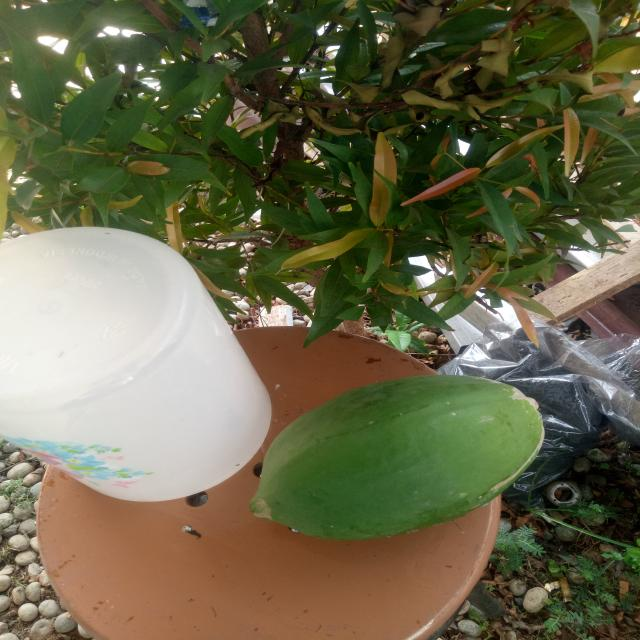Pepaya unrippen: (257, 377, 558, 539)
